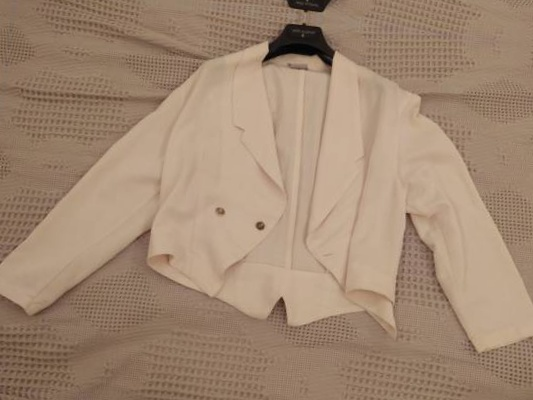Blazer: (0, 7, 533, 397), (20, 0, 533, 25), (0, 0, 13, 327)
